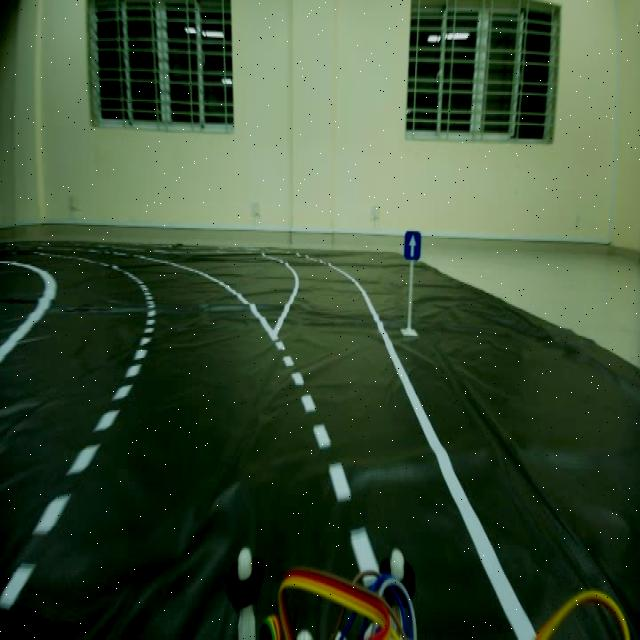onewayroad: (402, 224, 426, 273)
